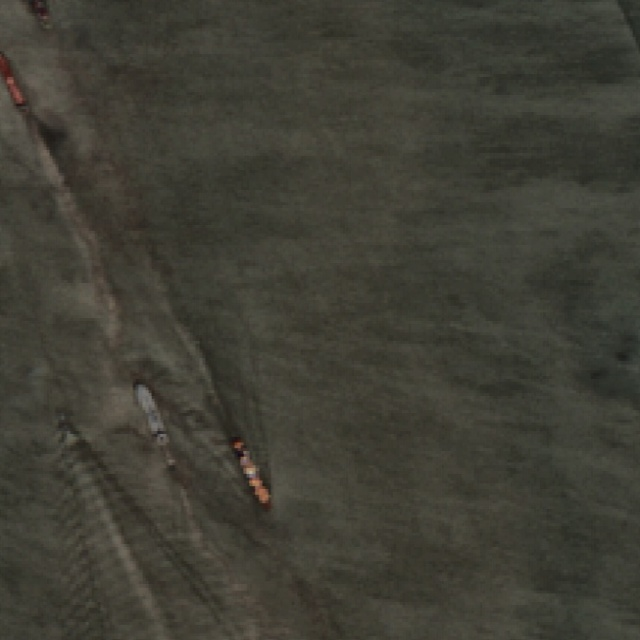wake: (3, 383, 209, 633)
